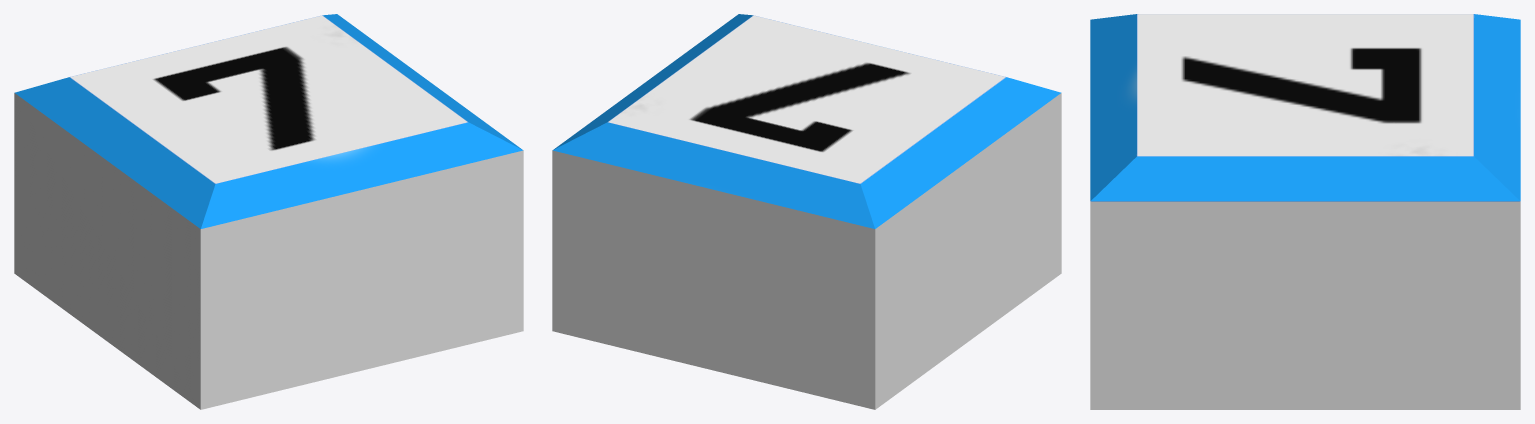
3 views of the same model, side by side, from view 1: azimuth 30°, elevation 25°; view 2: azimuth 150°, elevation 25°; view 3: azimuth 270°, elevation 25° (orthographic). The views are drawn at different scales.
Visible parts, largest first — view 1: button; view 2: button; view 3: button.
Boxes of the visible parts, x1=… form: button: x1=14, y1=14, x2=523, y2=409; button: x1=552, y1=14, x2=1061, y2=409; button: x1=1090, y1=14, x2=1520, y2=409.
Size of the model in its own units: 20 by 12 by 20.
